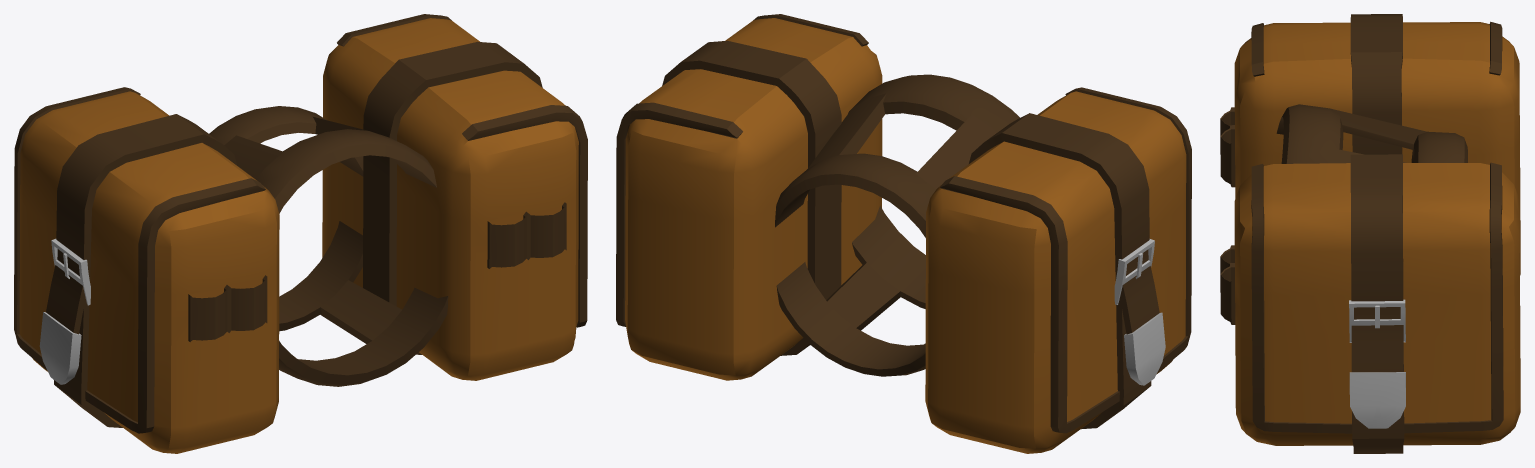
File: Besuru Tailbags.fbx
The picture shows the model from 3 angles, left to right: view 1: azimuth 30°, elevation 25°; view 2: azimuth 150°, elevation 25°; view 3: azimuth 270°, elevation 25°; orthographic projection. The views are drawn at different scales.
Visible parts, largest first — view 1: Tailbags; view 2: Tailbags; view 3: Tailbags.
Boxes of the visible parts, left/top/right/bottom form: Tailbags: left=14, top=14, right=587, bottom=453; Tailbags: left=616, top=14, right=1191, bottom=453; Tailbags: left=1220, top=14, right=1520, bottom=453.
Size of the model in its own units: 0.4105 by 0.2195 by 0.229.
